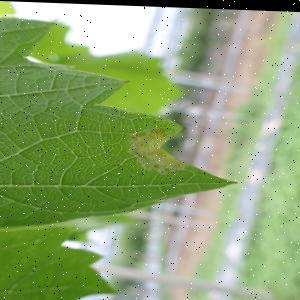Folha: (0, 13, 236, 300)
Fungo: (126, 124, 187, 173)
